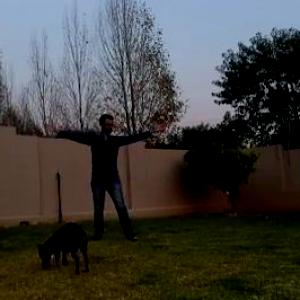takeoff: (33, 110, 158, 252)
